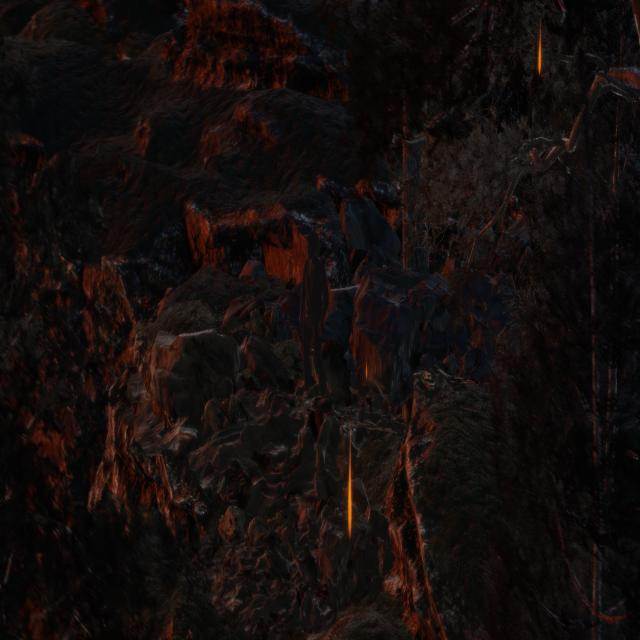Human: (289, 235, 337, 422)
